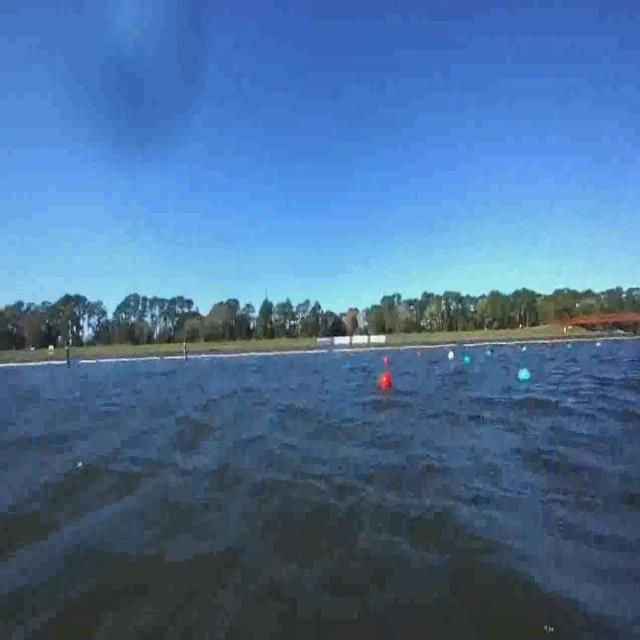green-buoy: (518, 366, 532, 381), (462, 354, 472, 368)
red-buoy: (380, 371, 393, 392), (384, 351, 390, 365)
red-dot: (484, 349, 492, 358)
yellow-buoy: (448, 348, 454, 362)
